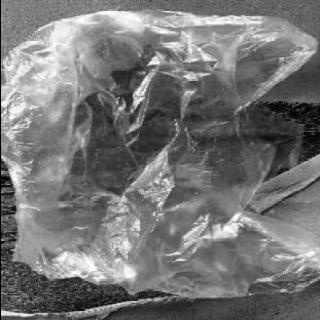objects: (11, 0, 312, 298)
